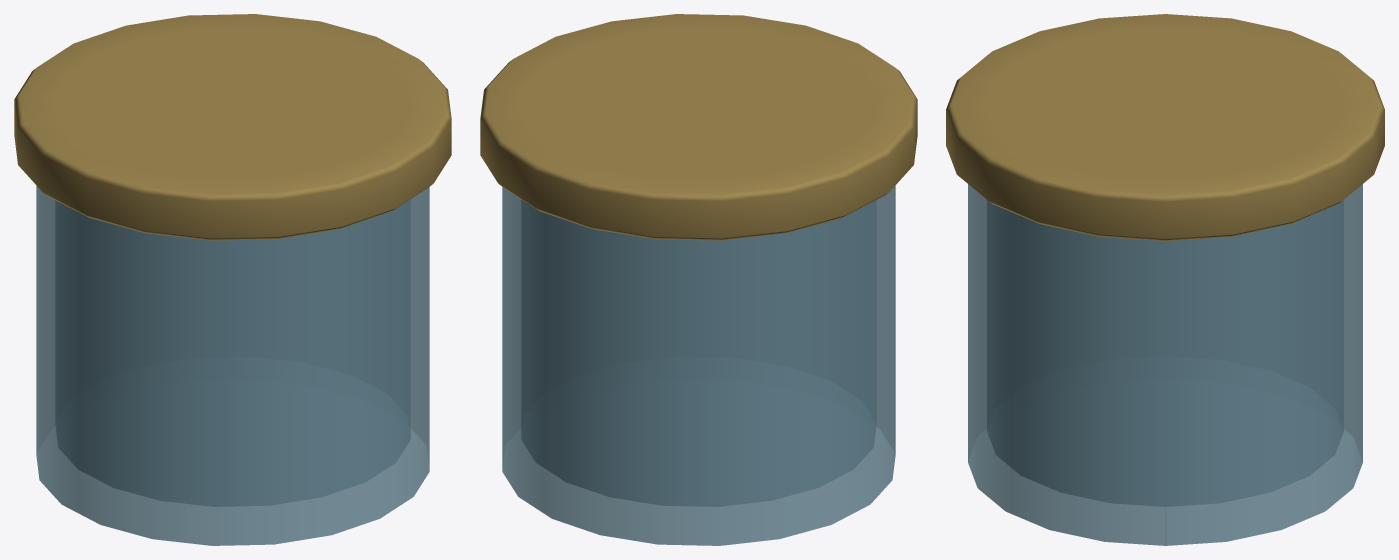
File: JarGeo.fbx
3 renders of one model, left to right at view 1: azimuth 30°, elevation 25°; view 2: azimuth 150°, elevation 25°; view 3: azimuth 270°, elevation 25°, orthographic.
Visible parts, largest first — view 1: JarGeo; view 2: JarGeo; view 3: JarGeo.
Boxes of the visible parts, box(x1,y1,x2,y2) form: JarGeo: box(14, 14, 451, 545); JarGeo: box(480, 14, 917, 545); JarGeo: box(946, 14, 1384, 545).
Bounding box in the file's own units: 48.87 × 44 × 48.87.
